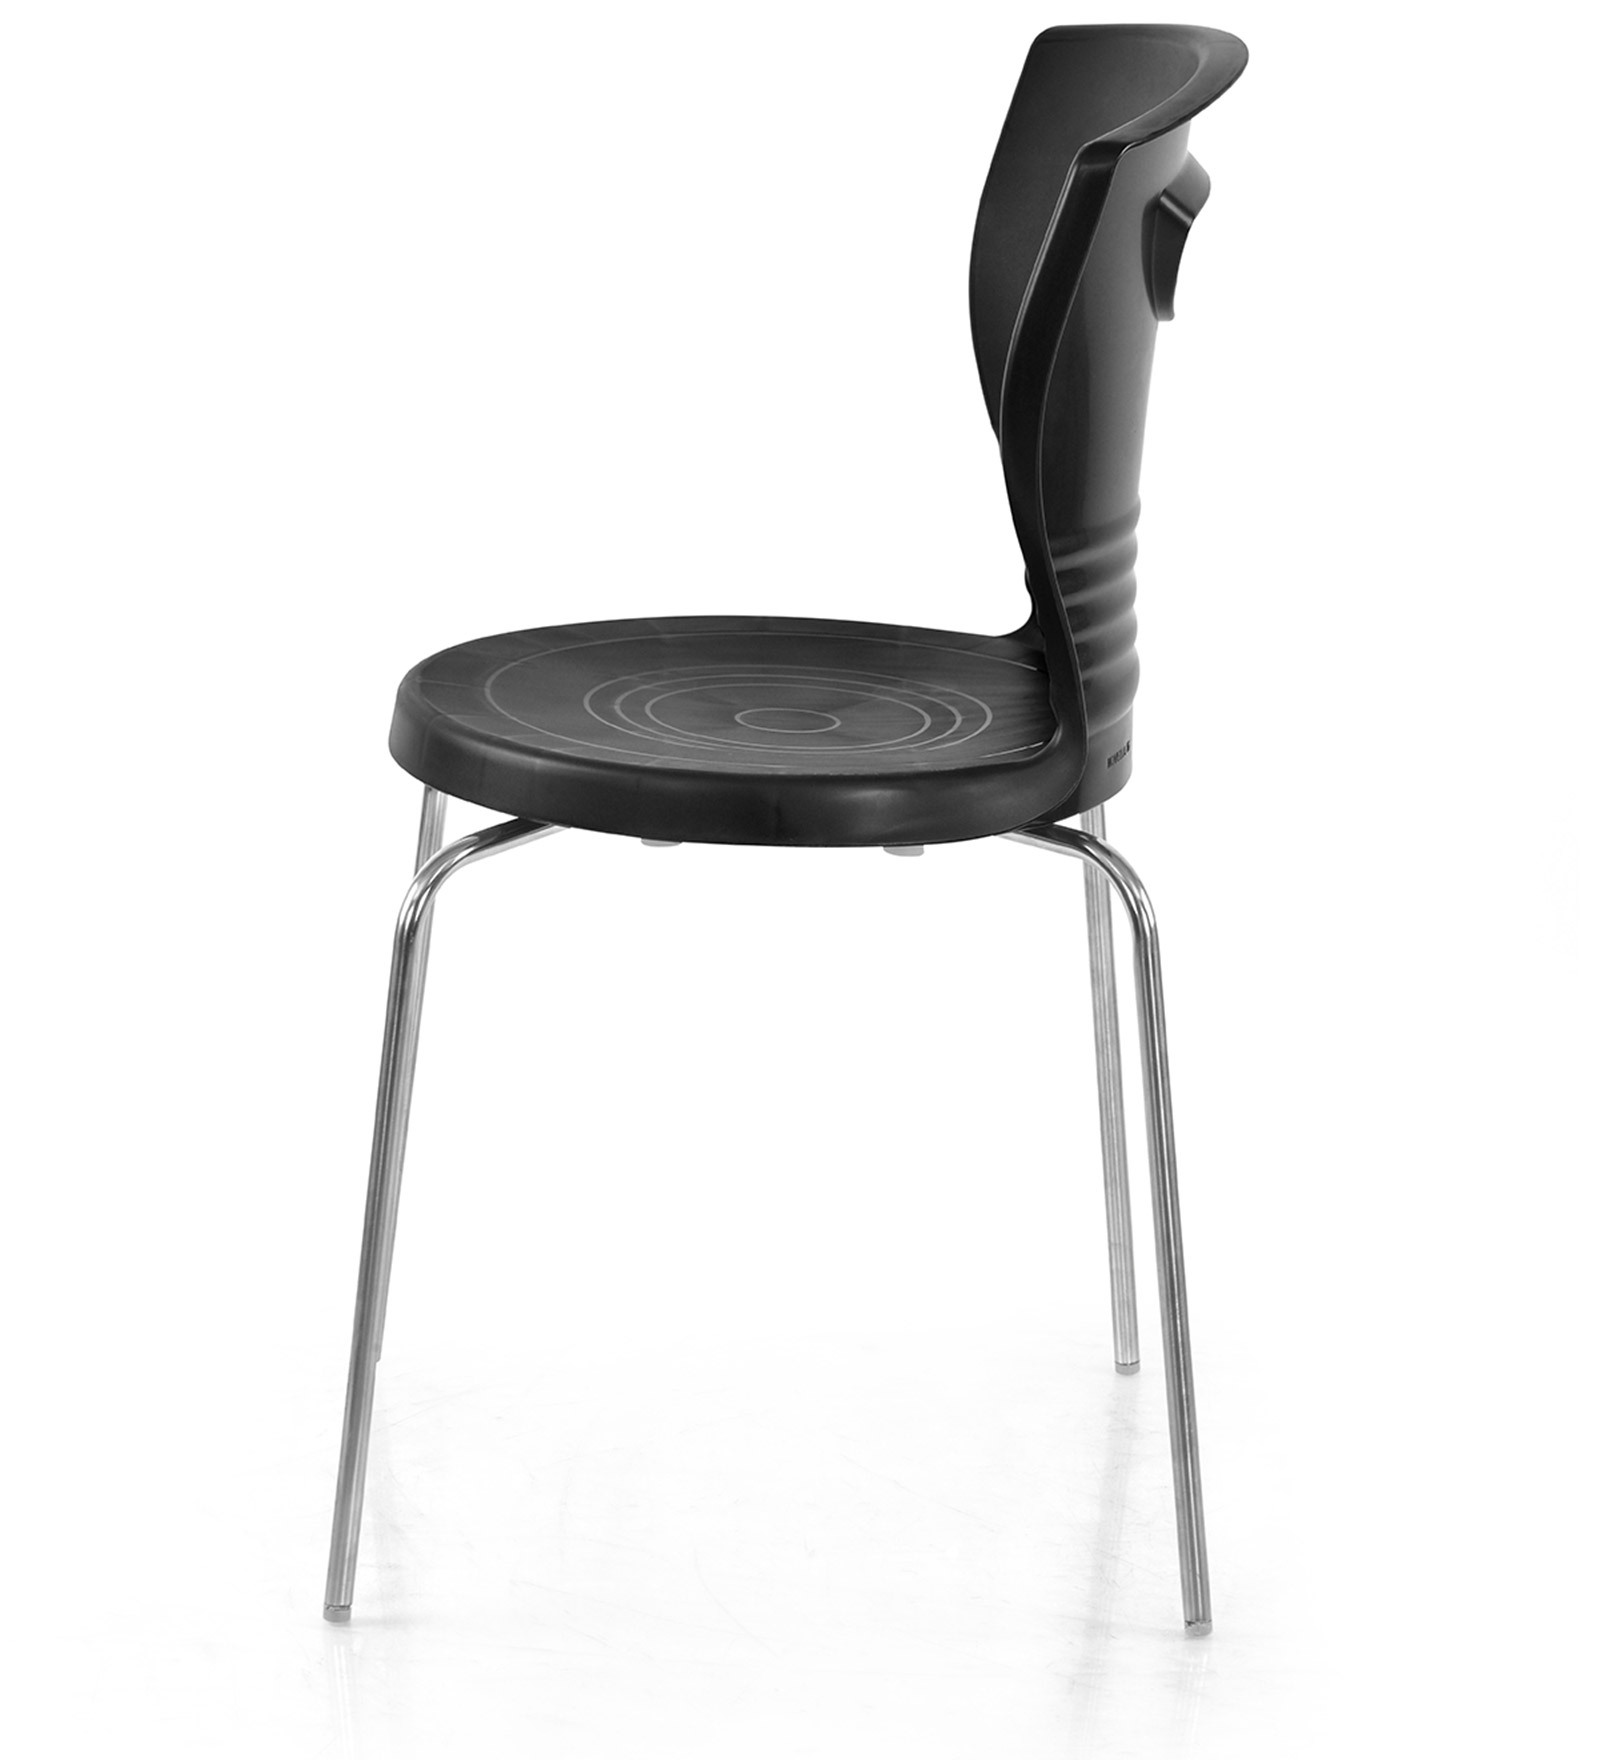Novella Series - 15 (Set of 2) Chairs in Black Color by Nilkamal: (316, 18, 1270, 1633)
